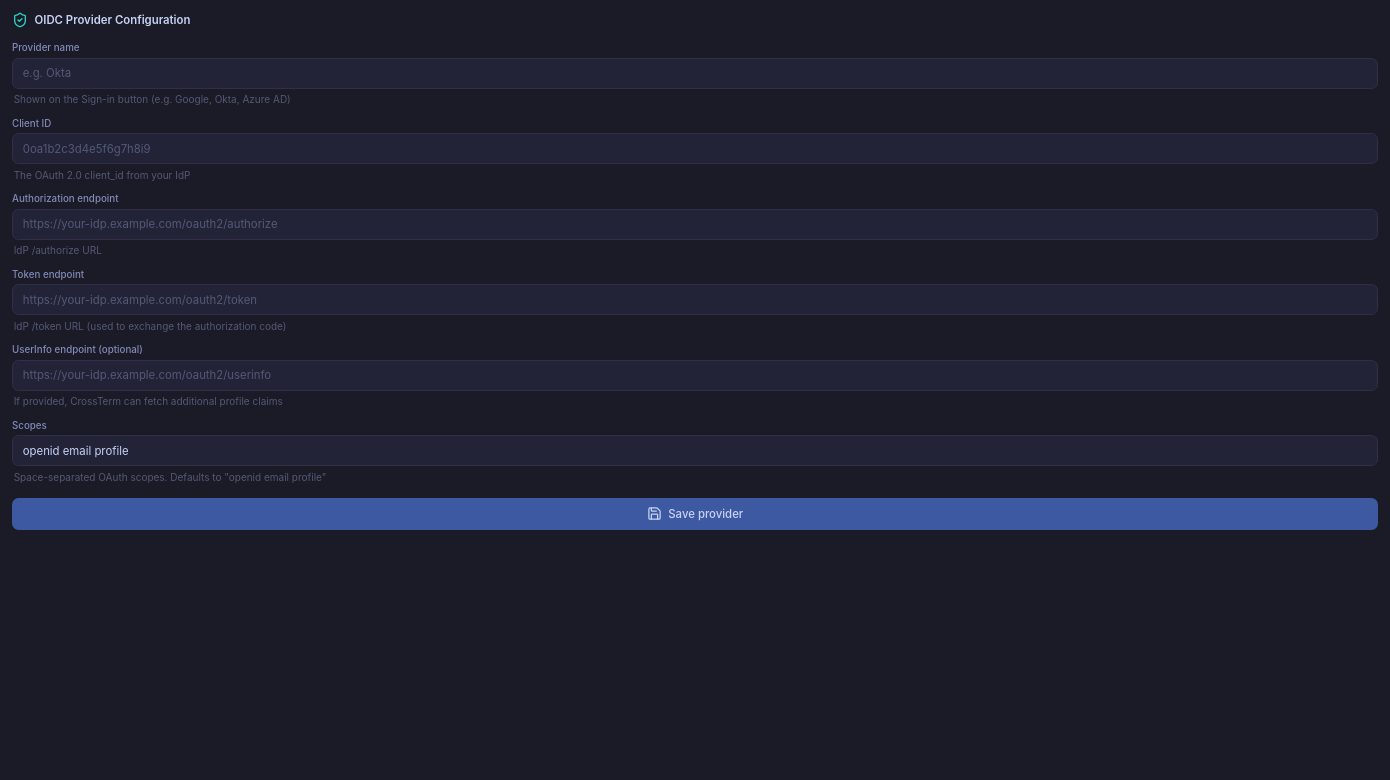
Test case: SsoConfigForm › shows validation errors for missing required fields
Click the button "Save provider" at (695, 514), box [12, 498, 1378, 530]
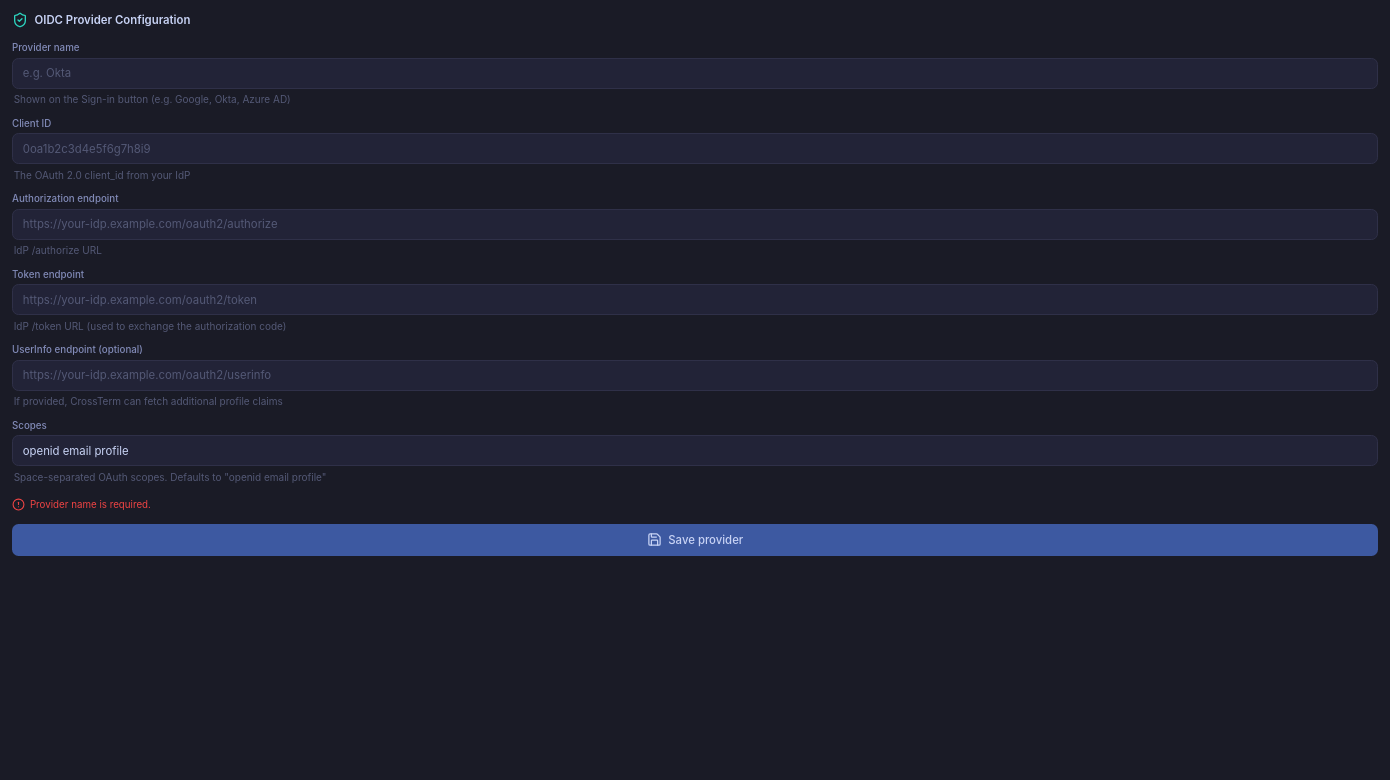
Expected: the text "Provider name is required." is shown, [12, 498, 151, 510]
